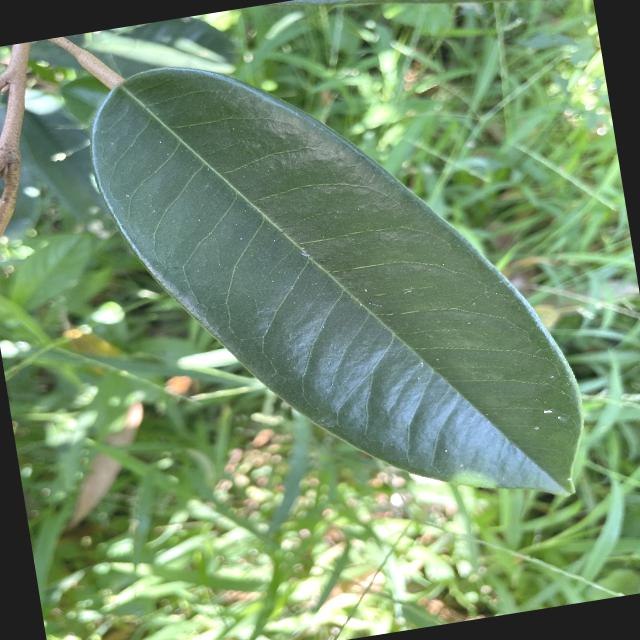No Disease: (72, 1, 604, 570)
